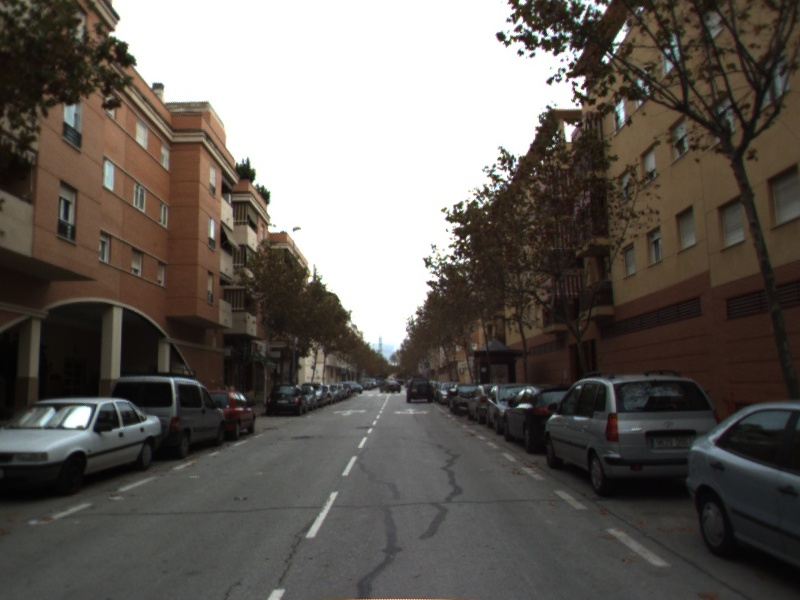STRAIGHT_LEFT_RIGHT: (391, 406, 431, 417)
